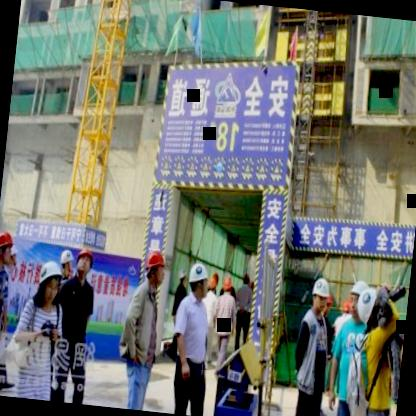helmet: (32, 256, 64, 311), (354, 282, 386, 334), (144, 244, 170, 294), (186, 260, 212, 302), (344, 276, 366, 322), (72, 242, 96, 282), (308, 275, 330, 315), (0, 225, 17, 267), (58, 245, 74, 279), (175, 264, 189, 288), (222, 271, 233, 295), (208, 273, 219, 297)
